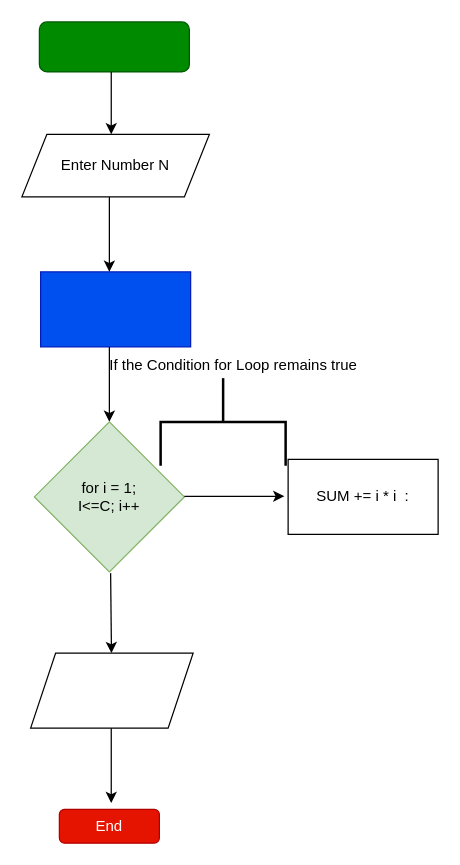
Some shapes in this 460 by 865 pixel diagram are drawn without their labels. The box of each missing label's shape, as (x1, y1, x2, y2) in pixels:
Begin: (38, 21, 189, 72)
Initialize SUM = 0 C = N: (39, 271, 191, 347)
Output the sum off squares, SUM: (29, 652, 193, 728)
